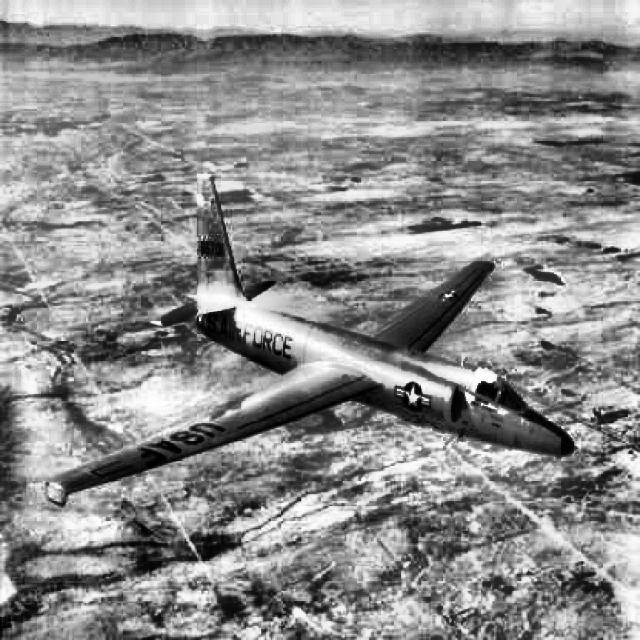U2: (44, 171, 576, 507)
